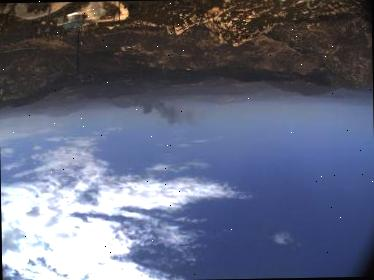smoke: (104, 94, 196, 129)
